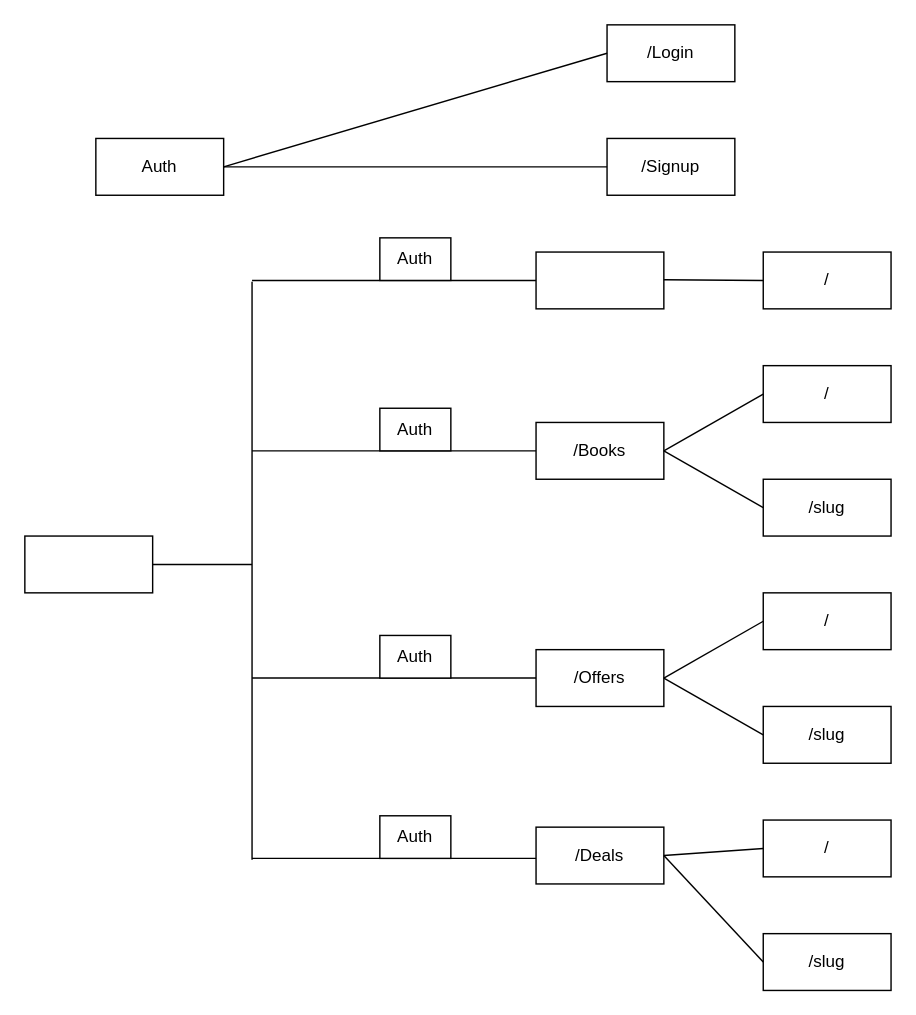
The diagram is 916 pixels wide and 1015 high, and some of its shapes have lost their labels. Each missing label, with the centre of its shape:
"/Profile" belongs at [599,280].
"User" belongs at [88,564].
